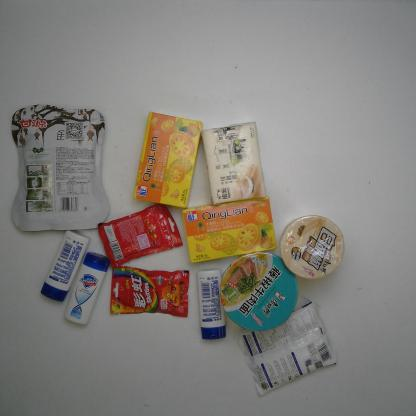Candy: (98, 203, 184, 269), (110, 266, 190, 318)
Dessert: (132, 111, 202, 209), (182, 196, 278, 263)
Dried Fruit: (11, 104, 110, 232)
Instant Noodles: (220, 251, 298, 332), (280, 214, 344, 280)
Personal Hygiene: (40, 230, 90, 302), (64, 252, 110, 325), (197, 268, 226, 340)
Seasoner: (231, 301, 338, 396)
Tissue: (202, 121, 266, 205)
